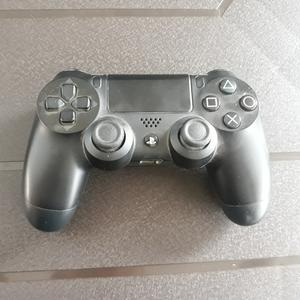controller: (22, 69, 272, 231)
